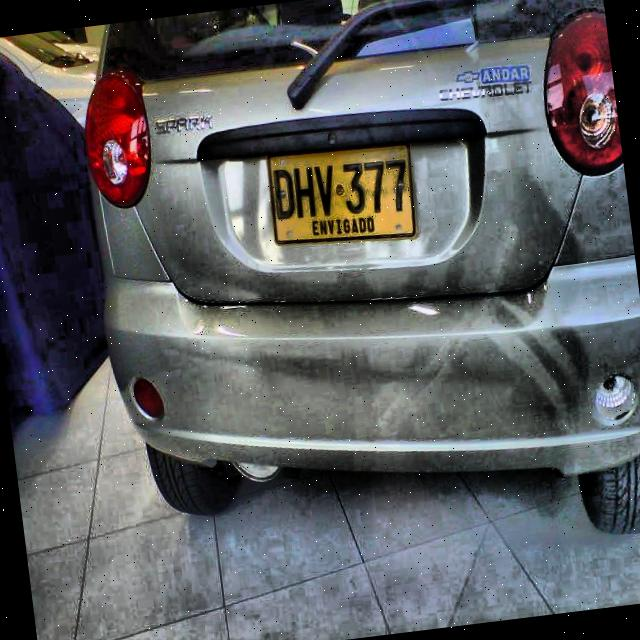plate: (268, 145, 414, 243)
